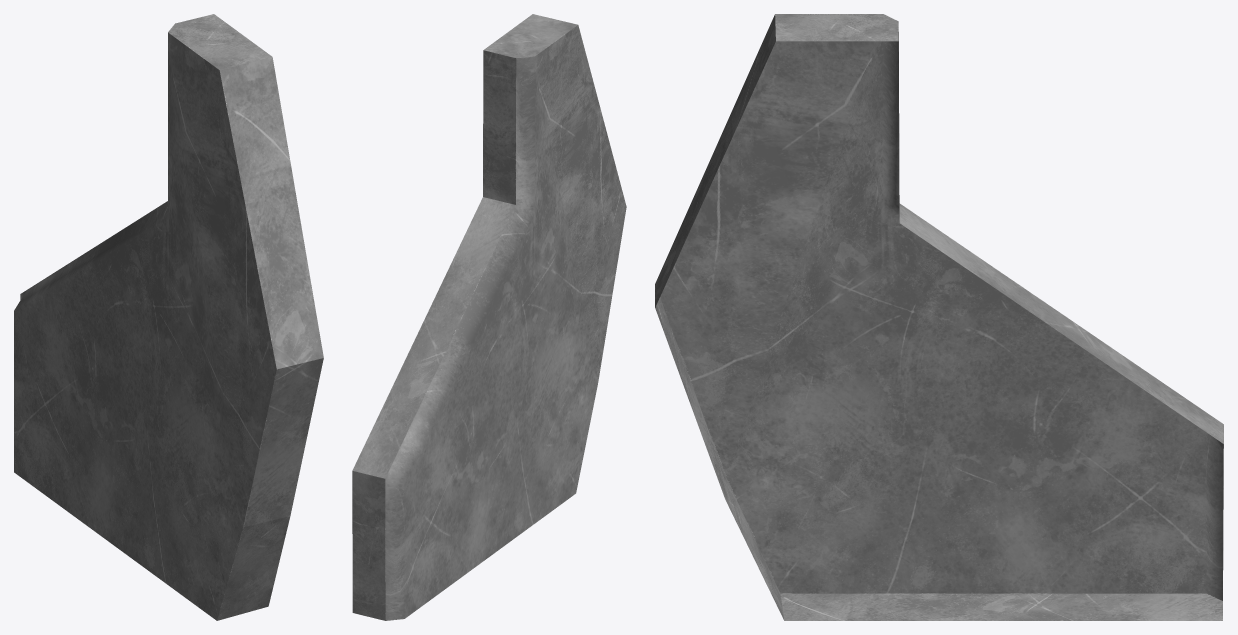
The model's file is Makovec_Door_01_Lower_Half.fbx.
The picture shows the model from 3 angles, left to right: view 1: azimuth 30°, elevation 25°; view 2: azimuth 150°, elevation 25°; view 3: azimuth 270°, elevation 25°; orthographic projection. The views are drawn at different scales.
Parts seen in each view (by area): view 1: Lower_Half; view 2: Lower_Half; view 3: Lower_Half.
Boxes of the visible parts, x1,y1,x2,y2 form: Lower_Half: (14, 14, 323, 620); Lower_Half: (352, 14, 626, 620); Lower_Half: (655, 14, 1223, 620).
Bounding box in the file's own units: 2.27 × 22.43 × 19.95.
1 material, 1 textured.
